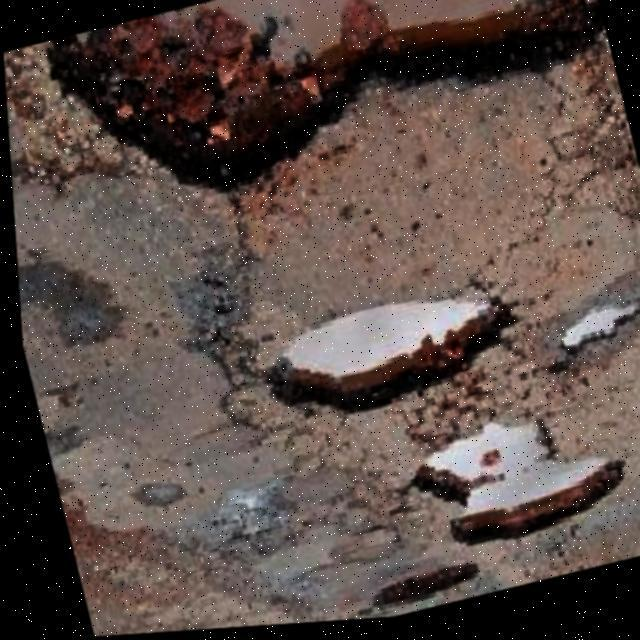pothole: (34, 0, 625, 234), (246, 273, 532, 440), (392, 397, 632, 568), (354, 564, 478, 622), (545, 302, 640, 369)
